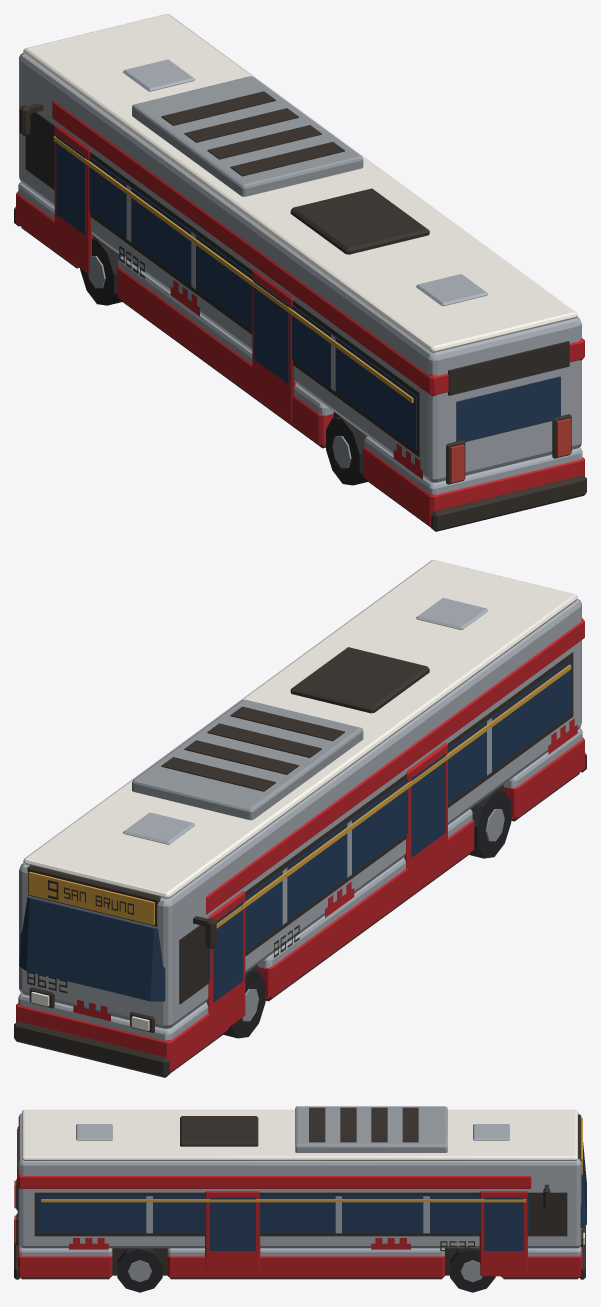
The model's file is muni-bus-40-9-san-bruno.glb.
3 views of the same model, one above another, from view 1: azimuth 30°, elevation 25°; view 2: azimuth 150°, elevation 25°; view 3: azimuth 270°, elevation 25° (orthographic). The views are drawn at different scales.
Parts seen in each view (by area): view 1: Toy_silver, Toy_white, Toy_munired, Toy_ink, Toy_glass, Toy_steel, Toy_tire, Toy_mustard_Glow, Toy_red_Glow; view 2: Toy_white, Toy_silver, Toy_glass, Toy_munired, Toy_ink, Toy_steel, Toy_mustard_Glow, Toy_tire; view 3: Toy_silver, Toy_munired, Toy_white, Toy_glass, Toy_ink, Toy_steel, Toy_tire, Toy_mustard_Glow.
Part boxes in pixels (bbox=[...]): Toy_silver: bbox=[18, 52, 582, 494]; Toy_white: bbox=[23, 14, 577, 352]; Toy_munired: bbox=[16, 101, 584, 526]; Toy_ink: bbox=[14, 91, 586, 531]; Toy_glass: bbox=[53, 130, 560, 450]; Toy_steel: bbox=[88, 76, 363, 468]; Toy_tire: bbox=[80, 236, 367, 485]; Toy_mustard_Glow: bbox=[53, 136, 413, 402]; Toy_red_Glow: bbox=[450, 418, 570, 482]; Toy_white: bbox=[23, 560, 577, 898]; Toy_silver: bbox=[18, 598, 582, 1040]; Toy_glass: bbox=[19, 659, 571, 1001]; Toy_munired: bbox=[16, 618, 584, 1072]; Toy_ink: bbox=[14, 647, 586, 1077]; Toy_steel: bbox=[132, 699, 504, 1021]; Toy_mustard_Glow: bbox=[28, 664, 571, 928]; Toy_tire: bbox=[223, 789, 511, 1038]; Toy_silver: bbox=[18, 1113, 581, 1256]; Toy_munired: bbox=[17, 1126, 582, 1277]; Toy_white: bbox=[22, 1109, 577, 1160]; Toy_glass: bbox=[17, 1142, 586, 1250]; Toy_ink: bbox=[14, 1107, 585, 1279]; Toy_steel: bbox=[128, 1106, 482, 1282]; Toy_tire: bbox=[117, 1248, 495, 1292]; Toy_mustard_Glow: bbox=[41, 1118, 582, 1202].
Size of the model in its own units: 3.3 by 3.42 by 12.41.
